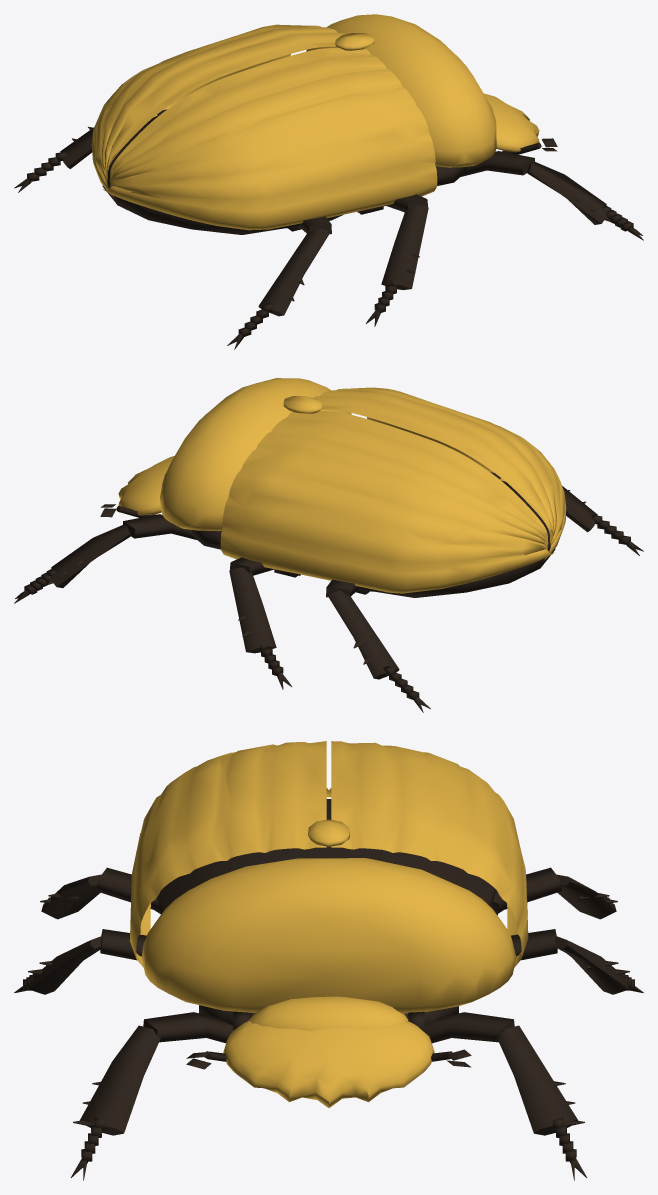
Rendered from SM_Critter_L2.glb.
The picture shows the model from 3 angles, top to bottom: view 1: azimuth 30°, elevation 25°; view 2: azimuth 150°, elevation 25°; view 3: azimuth 270°, elevation 25°; orthographic projection. The views are drawn at different scales.
Parts seen in each view (by area): view 1: SM_Critter; view 2: SM_Critter; view 3: SM_Critter.
Boxes of the visible parts, box(x1,y1,x2,y2) form: SM_Critter: box(14, 14, 643, 349); SM_Critter: box(14, 378, 643, 712); SM_Critter: box(14, 741, 643, 1180).
Size of the model in its own units: 1.63 by 0.6291 by 1.55.
